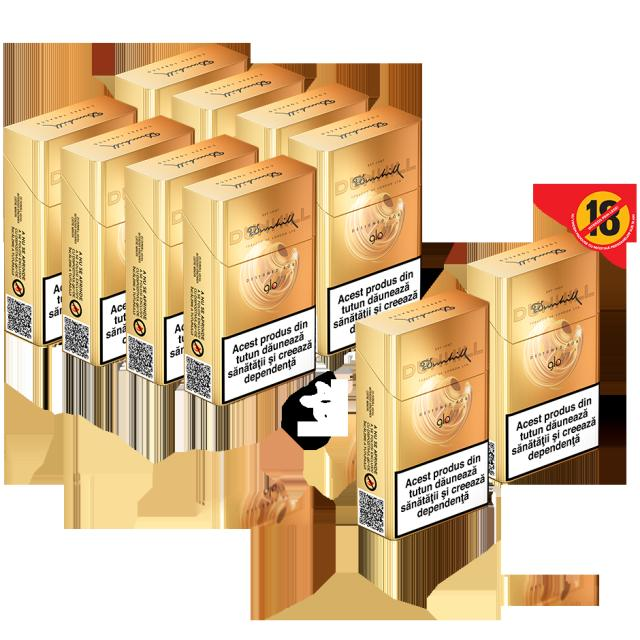dunhill: (123, 49, 416, 362), (7, 106, 203, 392), (459, 236, 606, 487), (182, 153, 318, 398), (366, 276, 488, 544)
